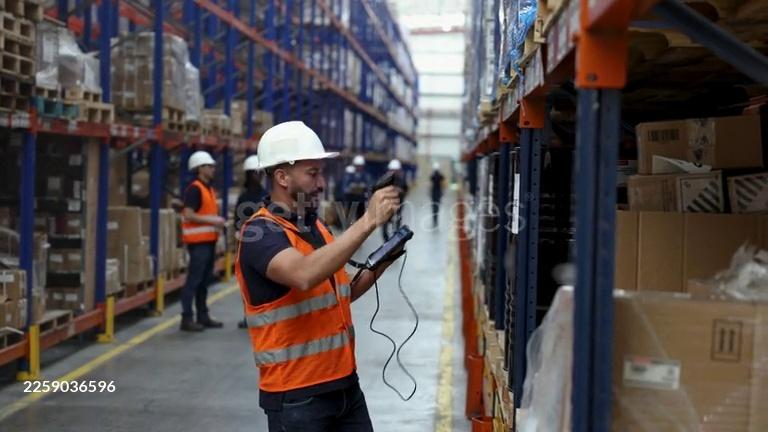helmet: (252, 120, 342, 172), (186, 151, 218, 173), (243, 156, 261, 171), (387, 160, 403, 171), (352, 156, 366, 166)
person: (232, 120, 406, 432), (176, 150, 225, 333), (234, 155, 269, 236), (346, 155, 372, 216), (386, 160, 403, 217), (429, 167, 445, 214), (405, 163, 418, 201)
